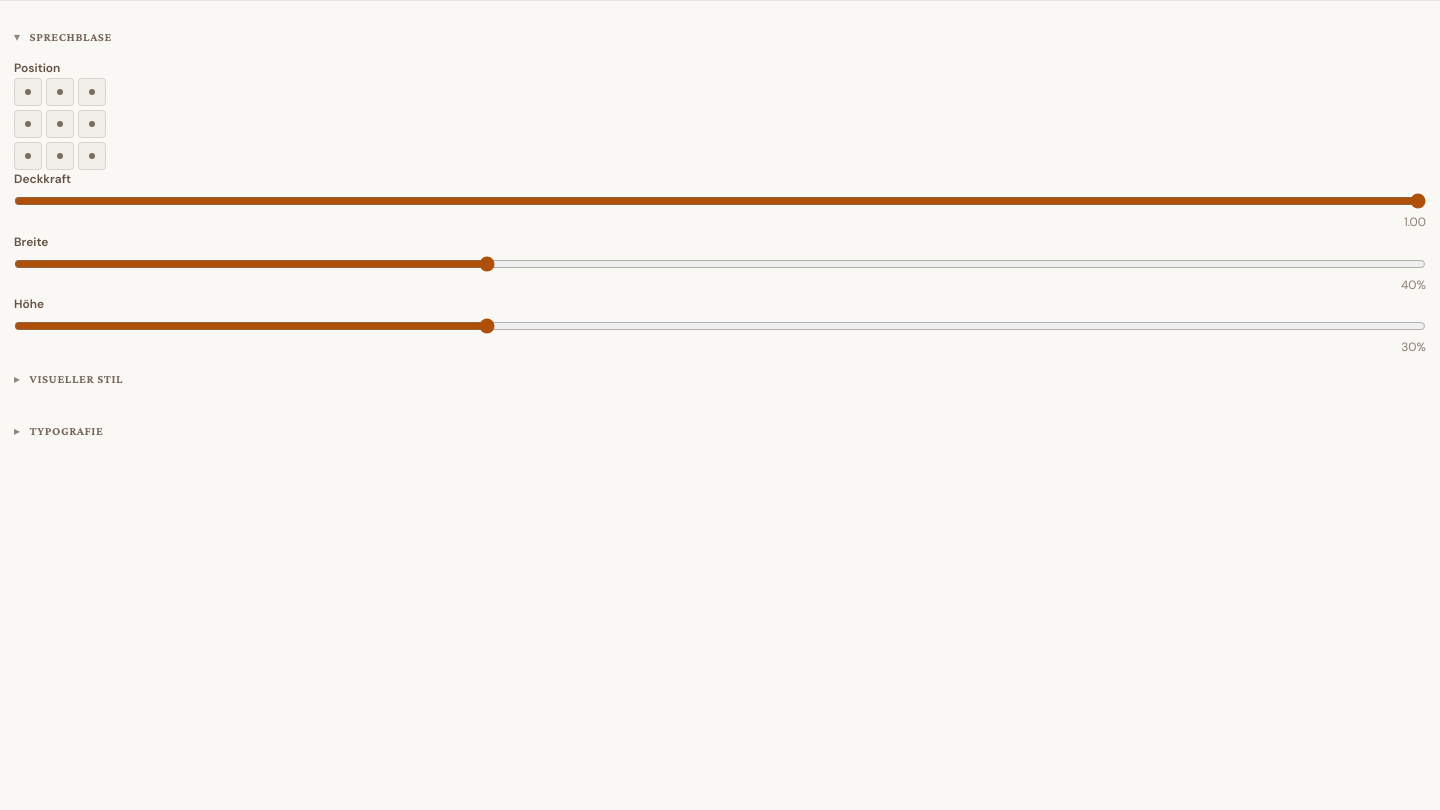
LayoutConfigSpeechBubble - Tier 2 Typography (4c-B-2 C3) › italic toggle reflects persisted bubbles[0].italic=true
Click the button with test id "speech-bubble-tier2-trigger". click: (59, 431)
box: left=14, top=409, right=103, bottom=453
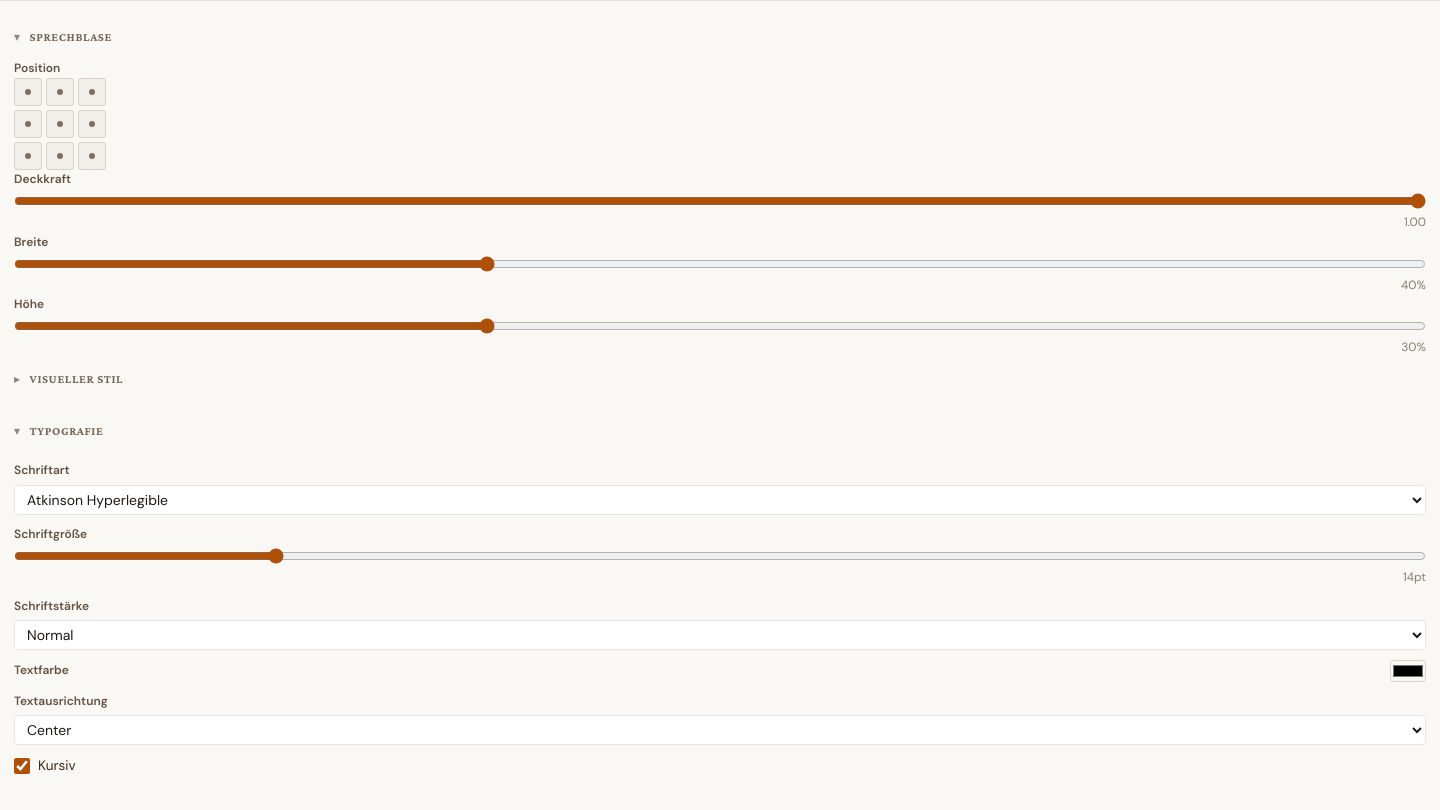
Check: the checkbox with test id "speech-bubble-italic-toggle" is checked, box left=14, top=758, right=30, bottom=774
